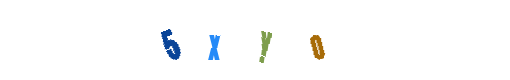5: (130, 0, 210, 80)
O: (253, 0, 333, 80)
X: (168, 0, 248, 80)
Y: (215, 0, 295, 80)
